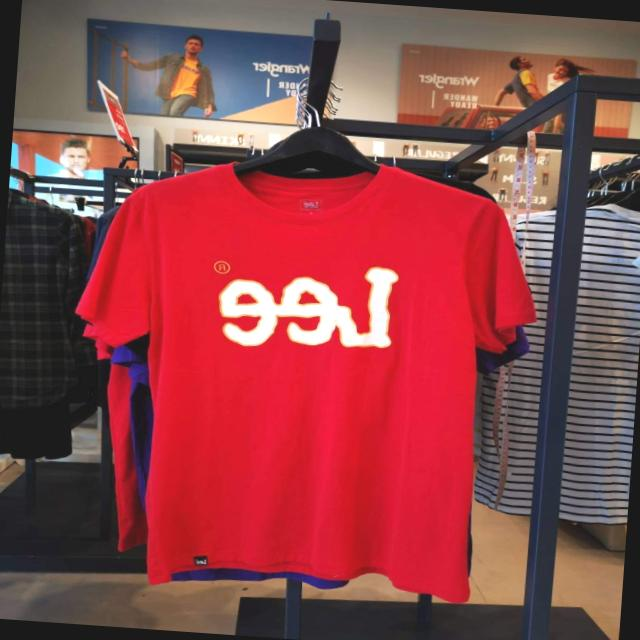Tshirt: (61, 137, 543, 599)
